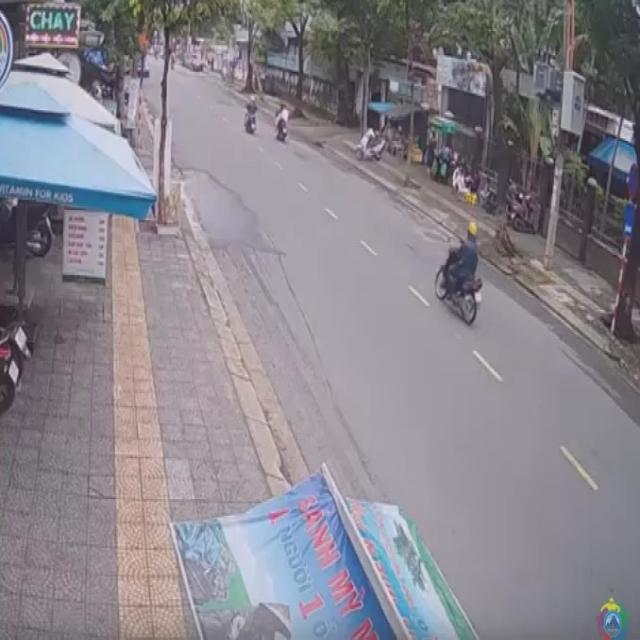motorbike: (434, 224, 485, 328), (272, 103, 289, 146)
